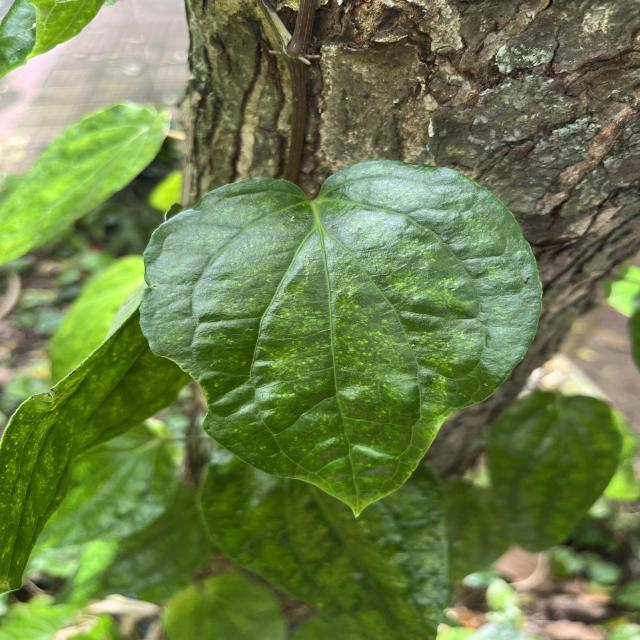Piper betle: (135, 155, 546, 522)
